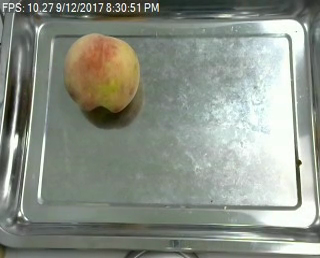Peach: (63, 32, 140, 115)
